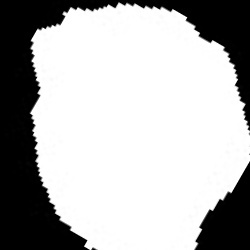spot: (30, 4, 249, 249)
